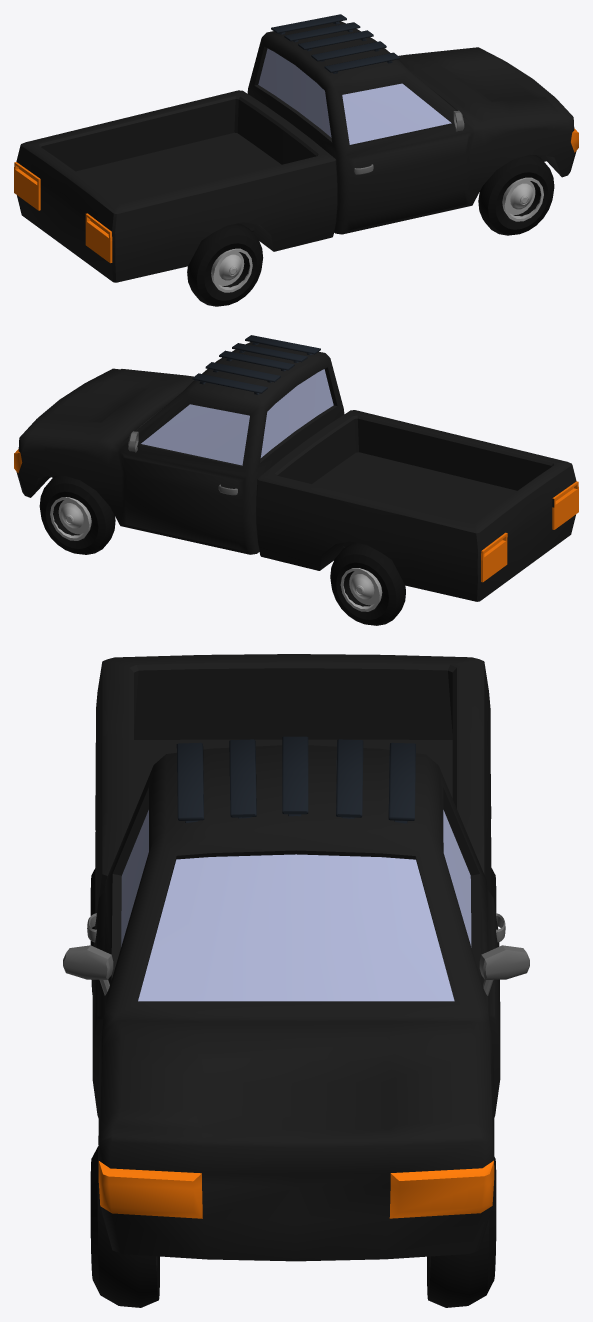
The model's file is Truck 1.FBX.
3 views of the same model, one above another, from view 1: azimuth 30°, elevation 25°; view 2: azimuth 150°, elevation 25°; view 3: azimuth 270°, elevation 25° (orthographic). The views are drawn at different scales.
Visible parts, largest first — view 1: Truck; view 2: Truck; view 3: Truck.
Part boxes in pixels (x1=…): Truck: x1=14, y1=14, x2=578, y2=306; Truck: x1=14, y1=335, x2=578, y2=625; Truck: x1=63, y1=654, x2=529, y2=1307.
Size of the model in its own units: 59.72 by 23.75 by 25.41.
